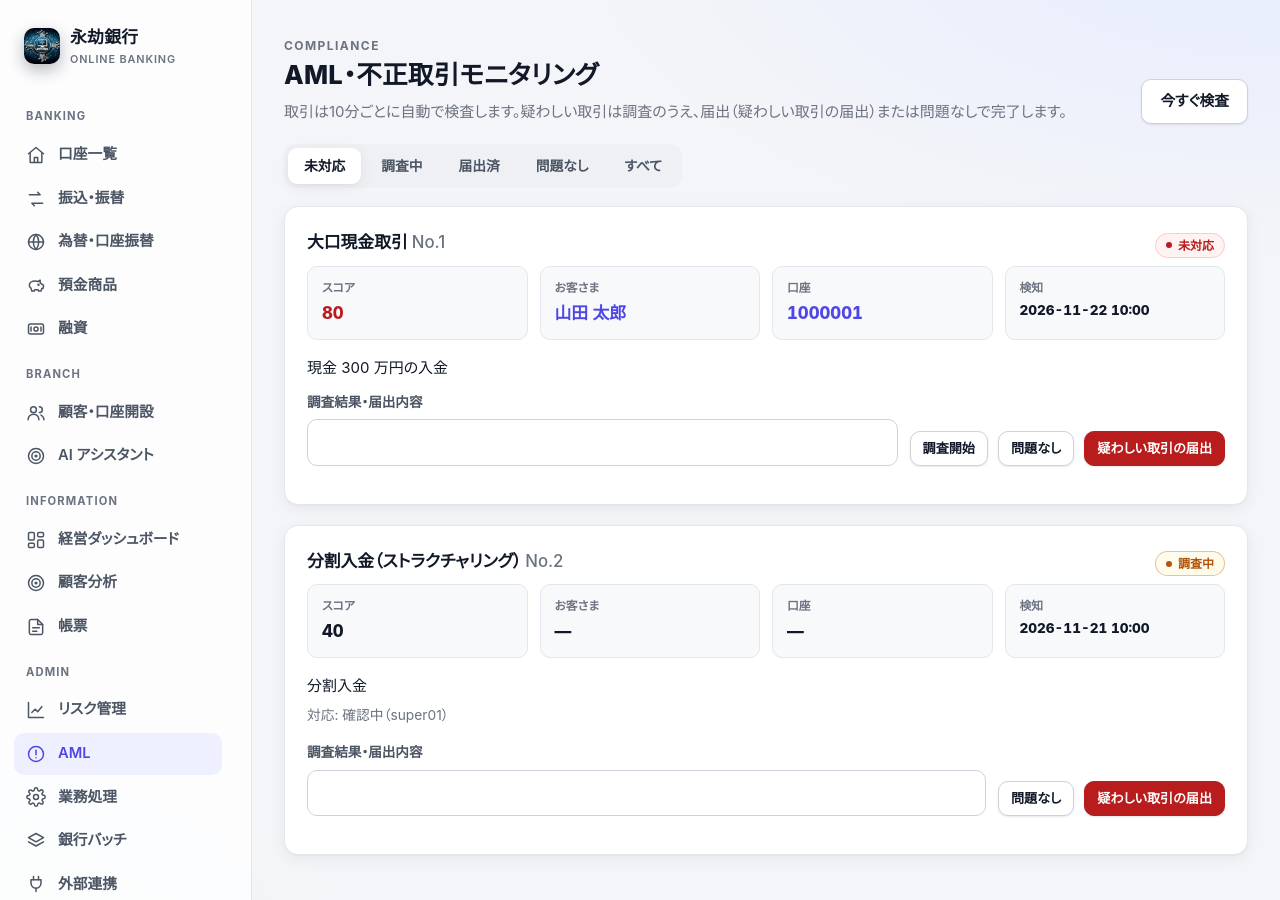
Test case: AmlPage › 調査結果を入力して届出・問題なし・調査開始を送る
Type "届出済み" into the field labelled "調査結果・届出内容" below "現金 300 万円の入金" at x=602, y=442, box [307, 419, 898, 466]
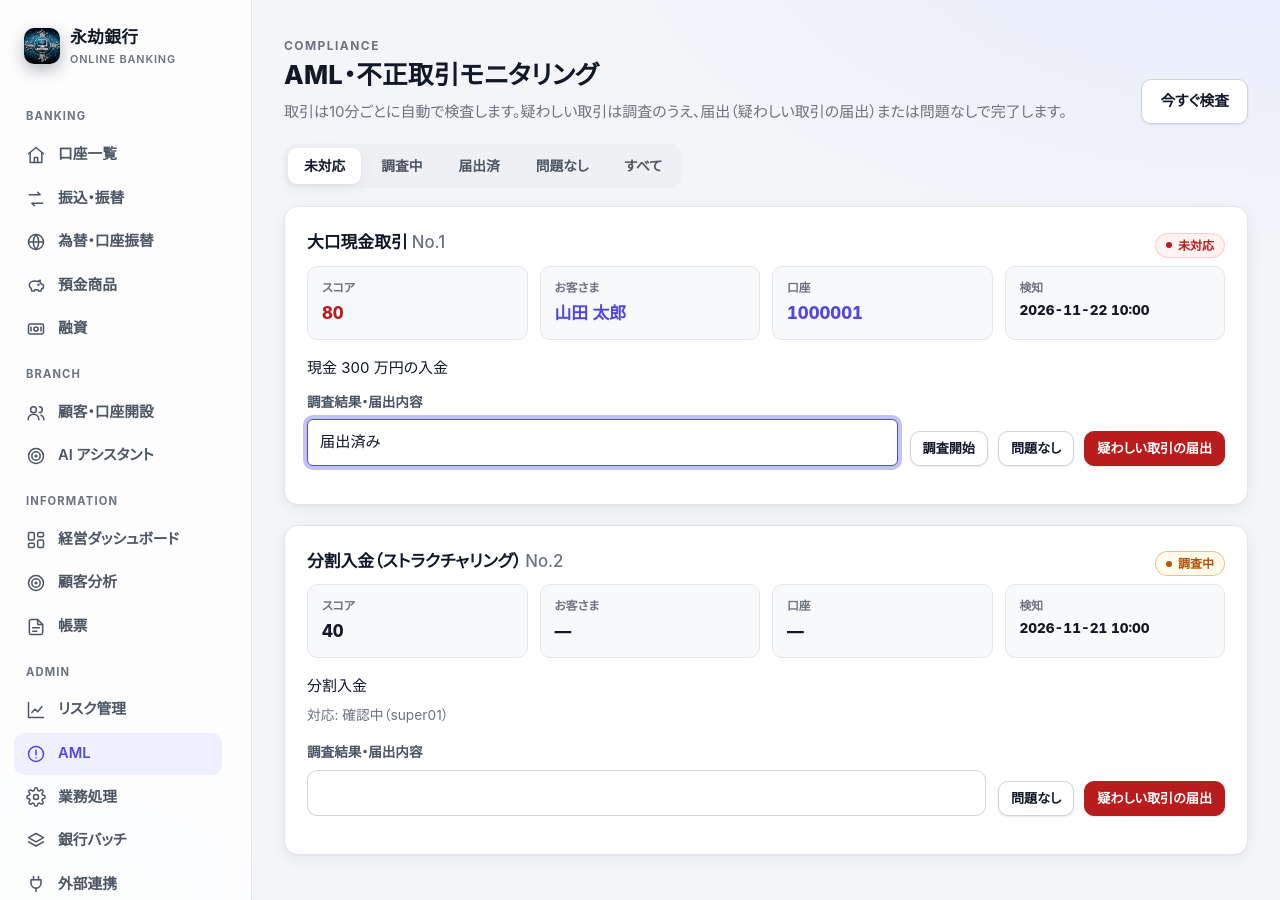
Click the button "疑わしい取引の届出" below "1000001" at x=1155, y=448, box [1084, 431, 1225, 466]
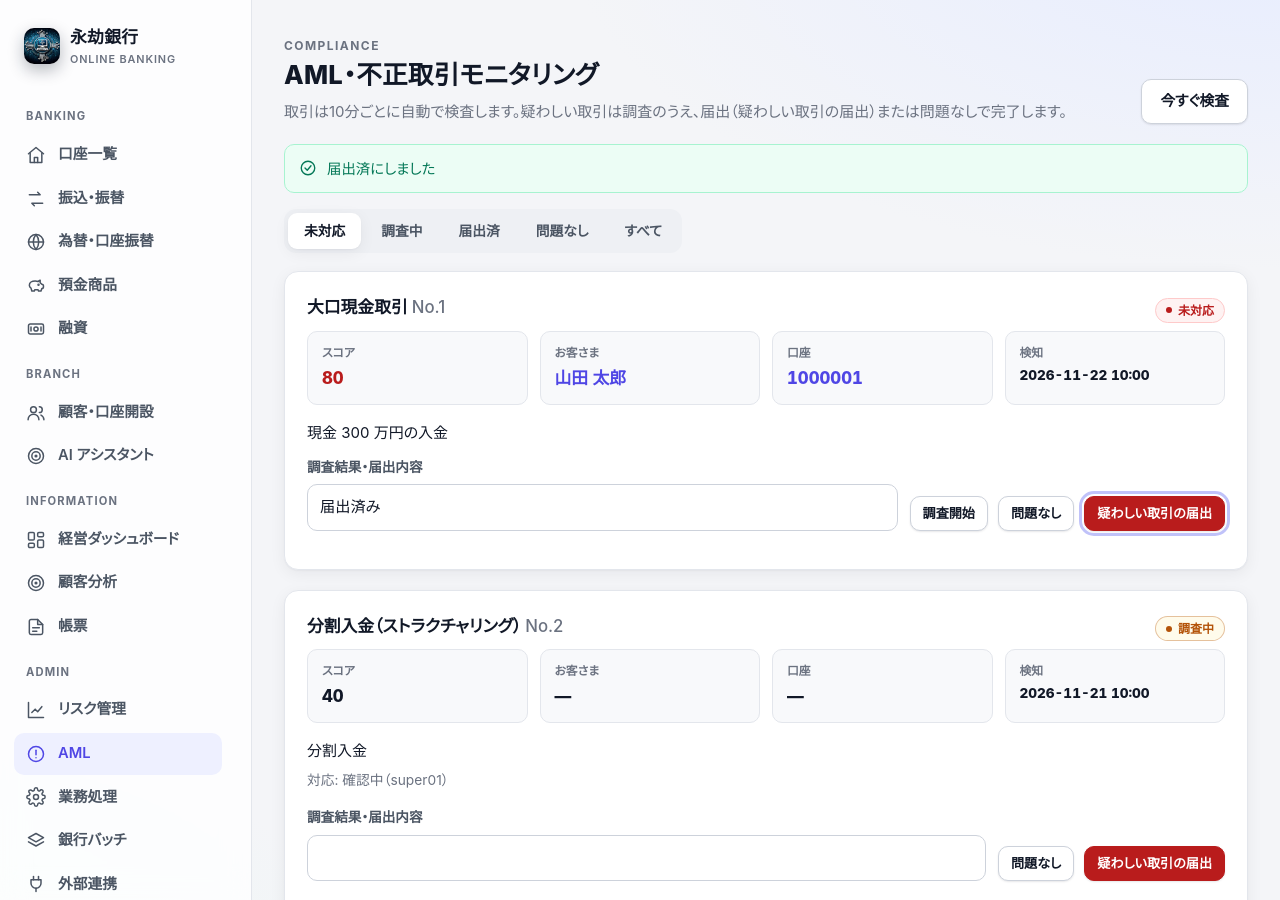
Now the text "届出済にしました" is shown, box [327, 157, 435, 180]
Click the button "問題なし" below "2026-11-21 10:00" at x=1036, y=864, box [998, 846, 1074, 881]
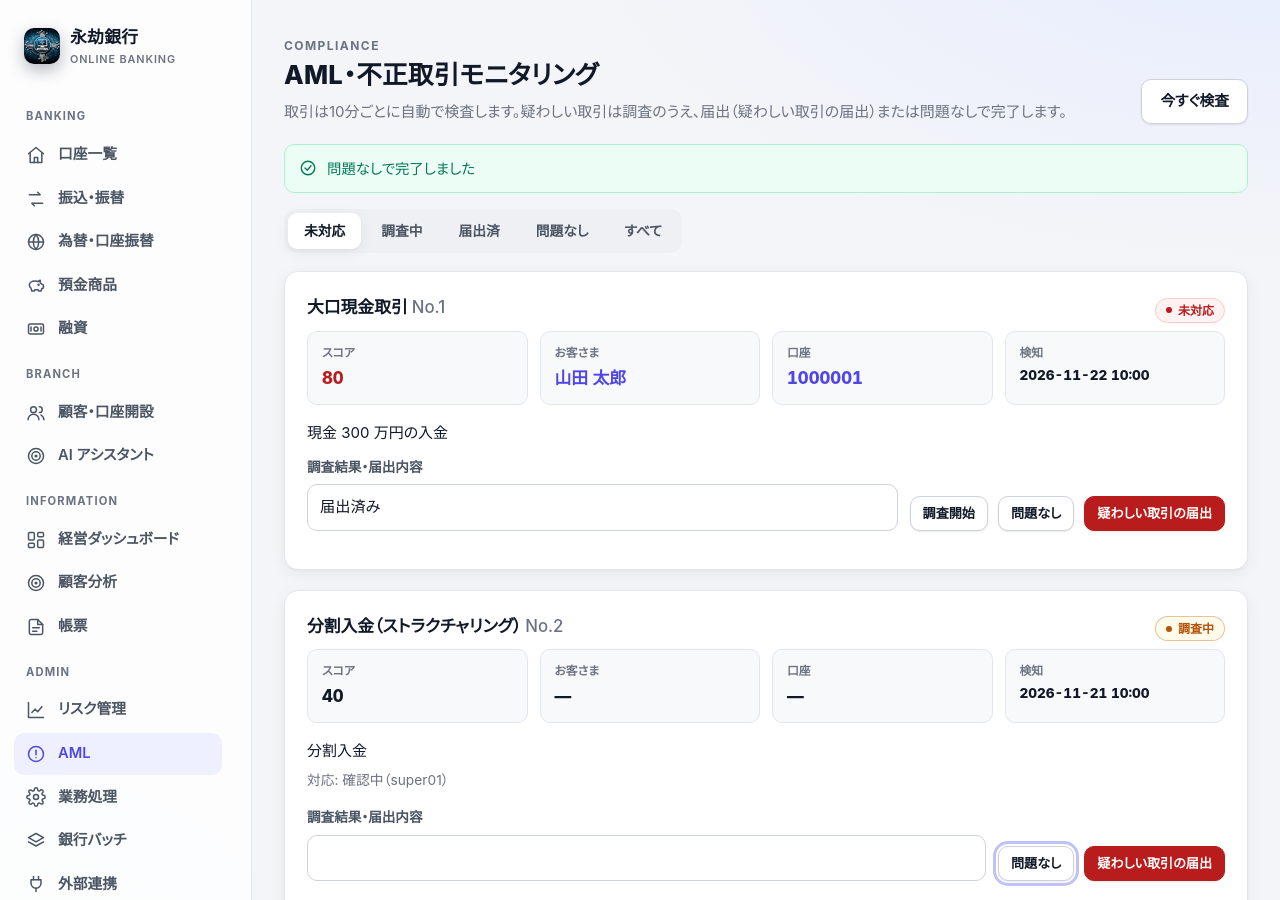
Now the text "問題なしで完了しました" is shown, box [327, 157, 475, 180]
Click the button "調査開始" at x=949, y=513, box [910, 496, 988, 531]
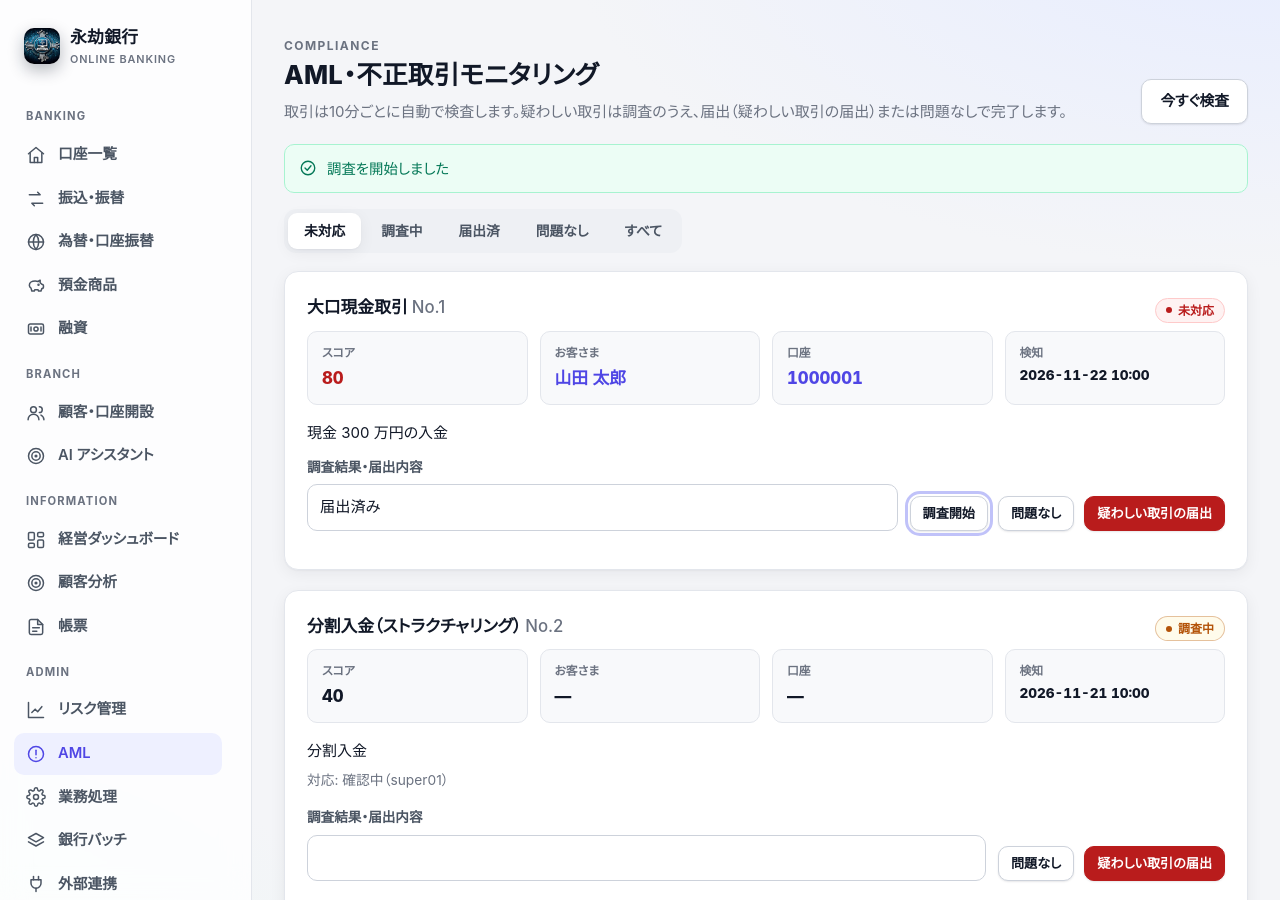
Now the text "調査を開始しました" is shown, box [327, 157, 449, 180]
